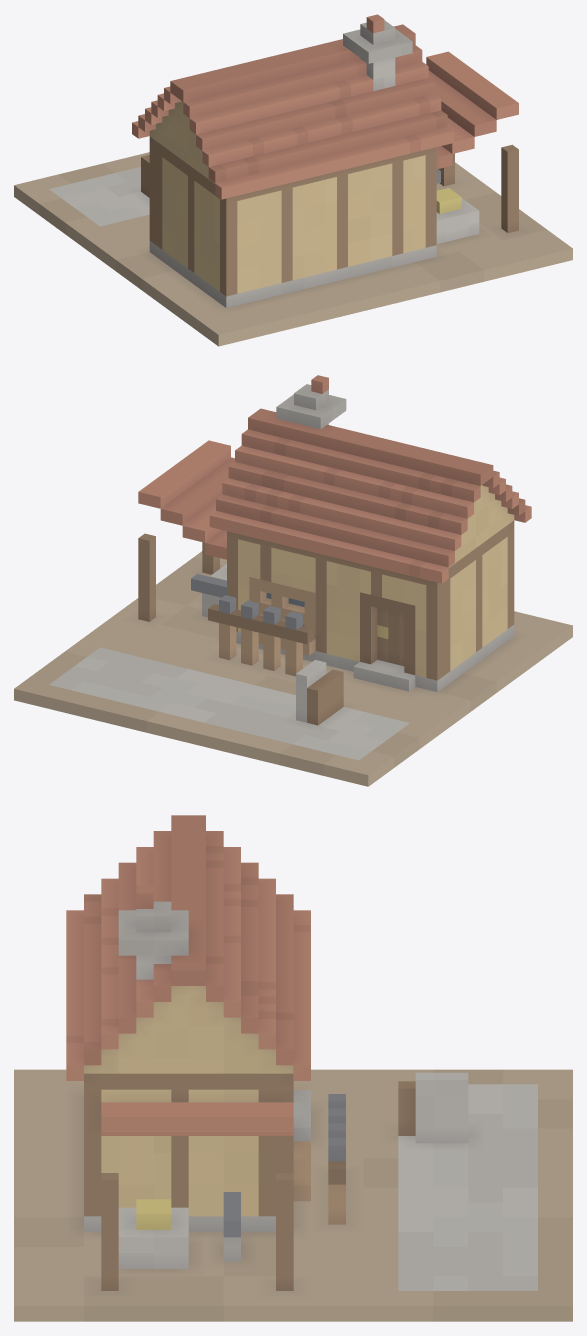
File: toolmaker.glb
3 renders of one model, top to bottom at view 1: azimuth 30°, elevation 25°; view 2: azimuth 150°, elevation 25°; view 3: azimuth 270°, elevation 25°, orthographic. The views are drawn at different scales.
Parts seen in each view (by area): view 1: toolmaker; view 2: toolmaker; view 3: toolmaker.
Part boxes in pixels (box(x1,y1,x2,y2)): toolmaker: box(14, 14, 572, 346); toolmaker: box(14, 375, 572, 786); toolmaker: box(14, 815, 572, 1321).
Bounding box in the file's own units: 4 × 2.62 × 4.
